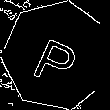P_NE: (30, 25, 85, 86)
